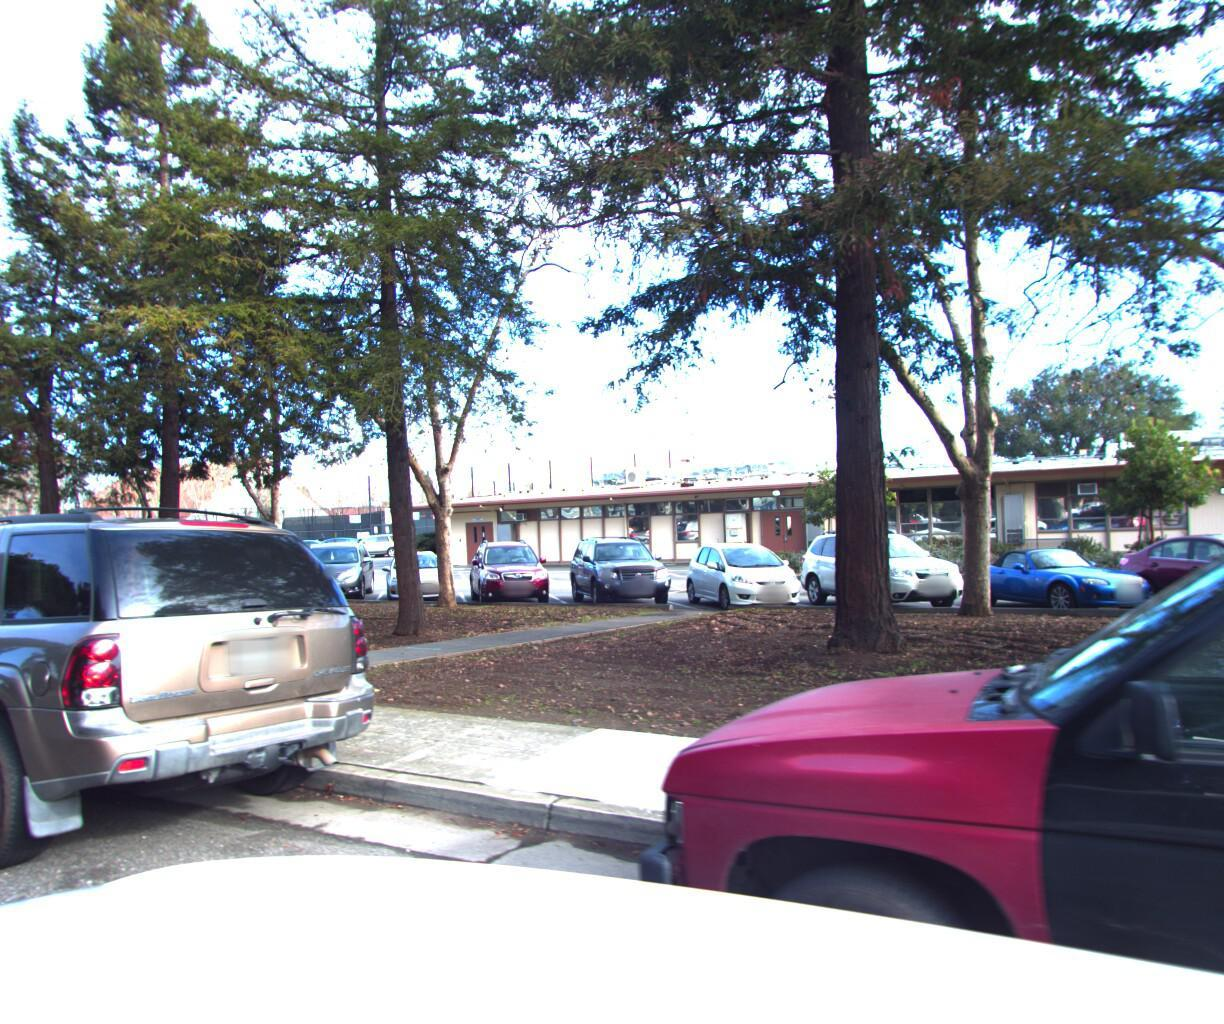car: (539, 119, 1224, 1024), (0, 483, 417, 943)
